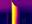Hotspot: (12, 2, 17, 23)
